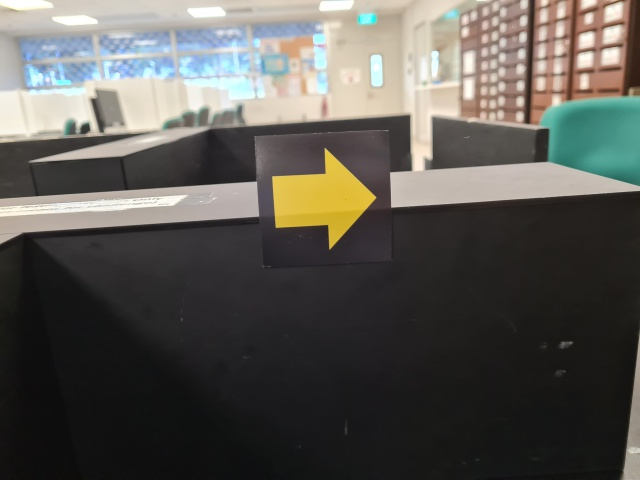right_arrow: (255, 129, 390, 267)
